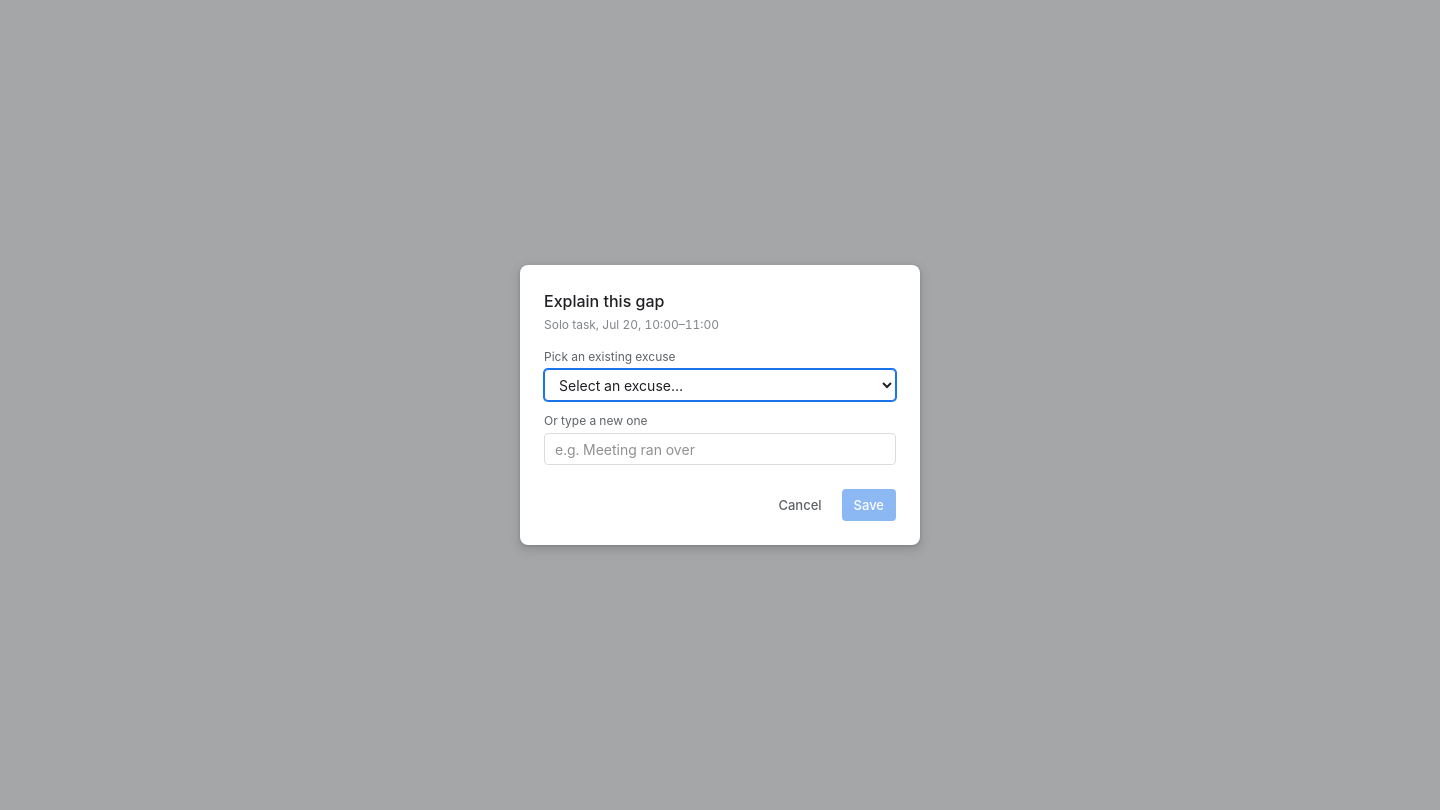
Scenario: ExplainGapDialog › disables Save until an excuse is picked or typed
The width and height of the screenshot is (1440, 810).
Expected: the button "Save" is disabled, [842,489,896,521]
Type "Got distracted" into the field labelled "Or type a new one" at (720, 449), box [544,433,896,465]
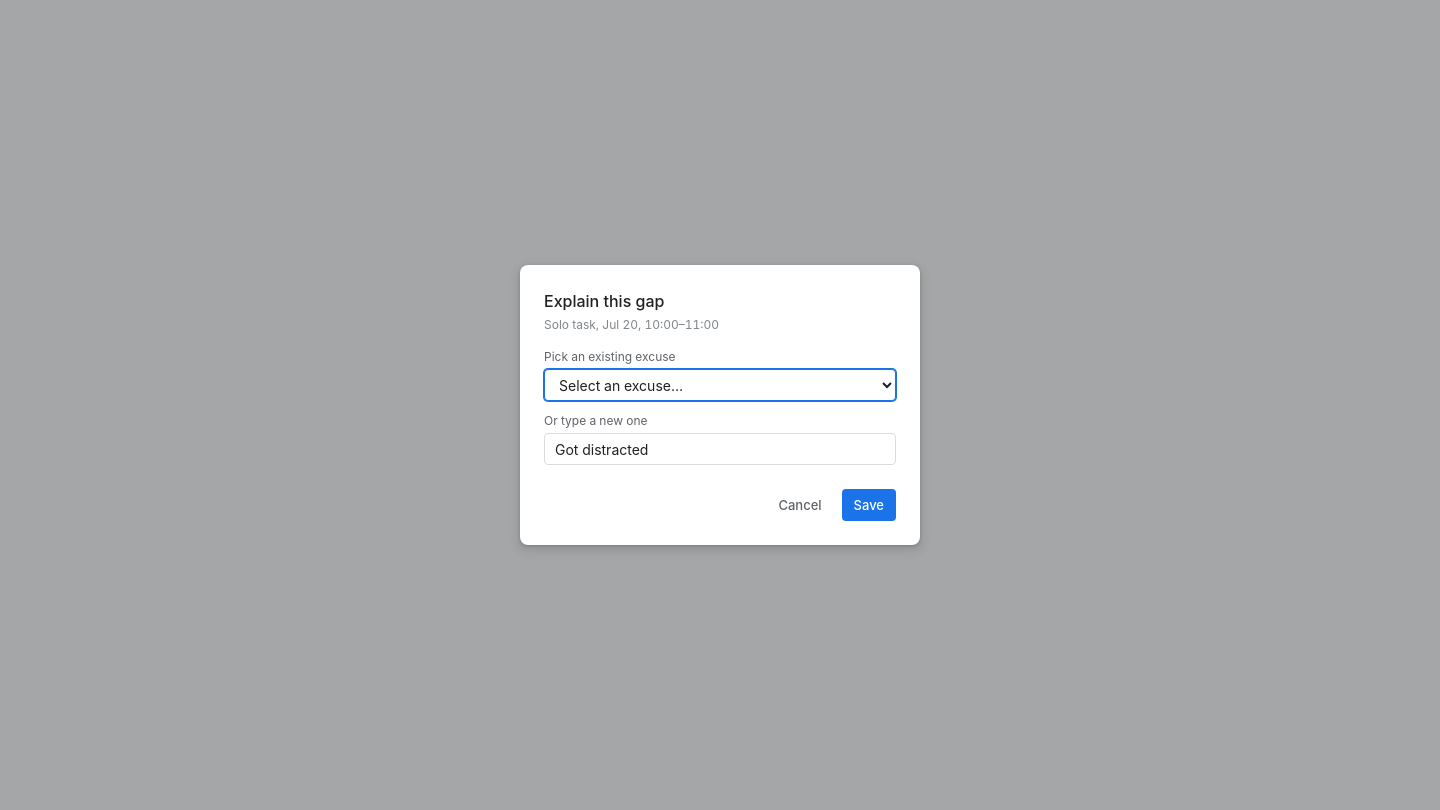
Result: the button "Save" is enabled at [842,489,896,521]
